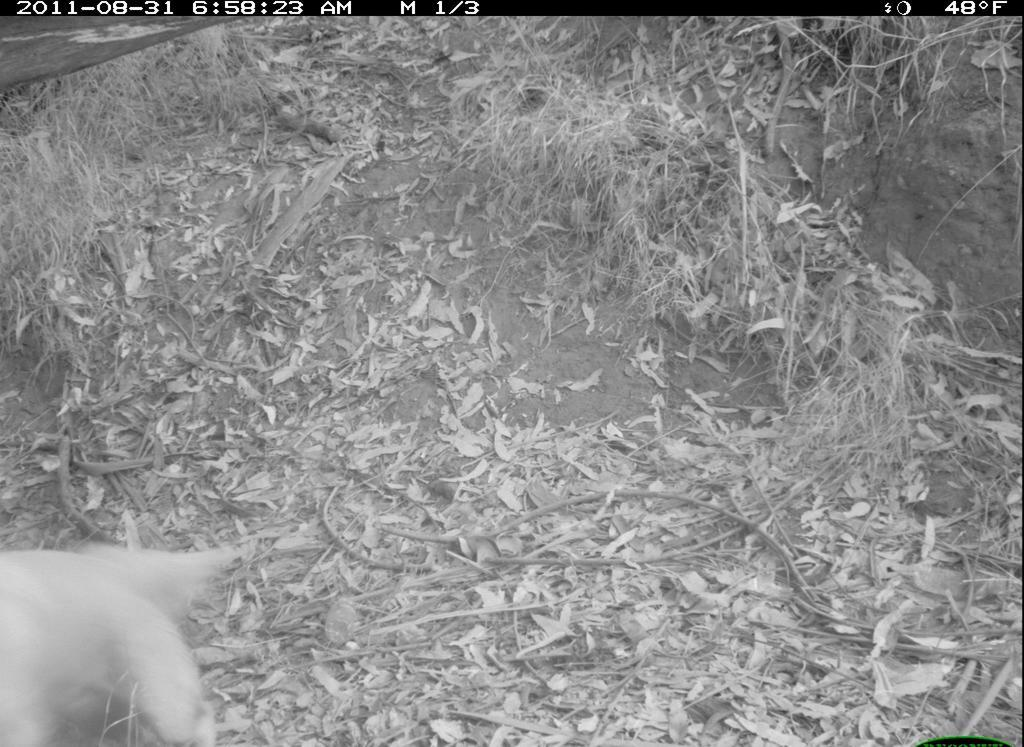dog: (4, 532, 269, 747)
